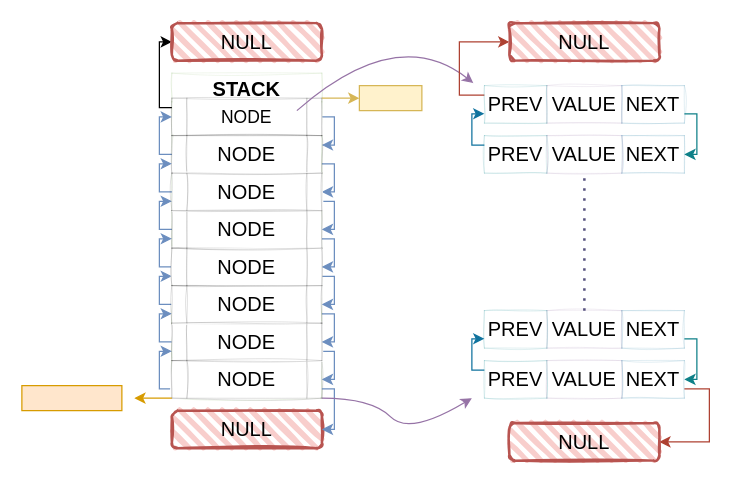
Some shapes in this 741 by 483 pixel diagram are drawn without their labels. The centre of each missing label's shape, as x and y in pixels:
"BOTTOM" goes at (x=71, y=397).
"TOP" goes at (x=390, y=97).
